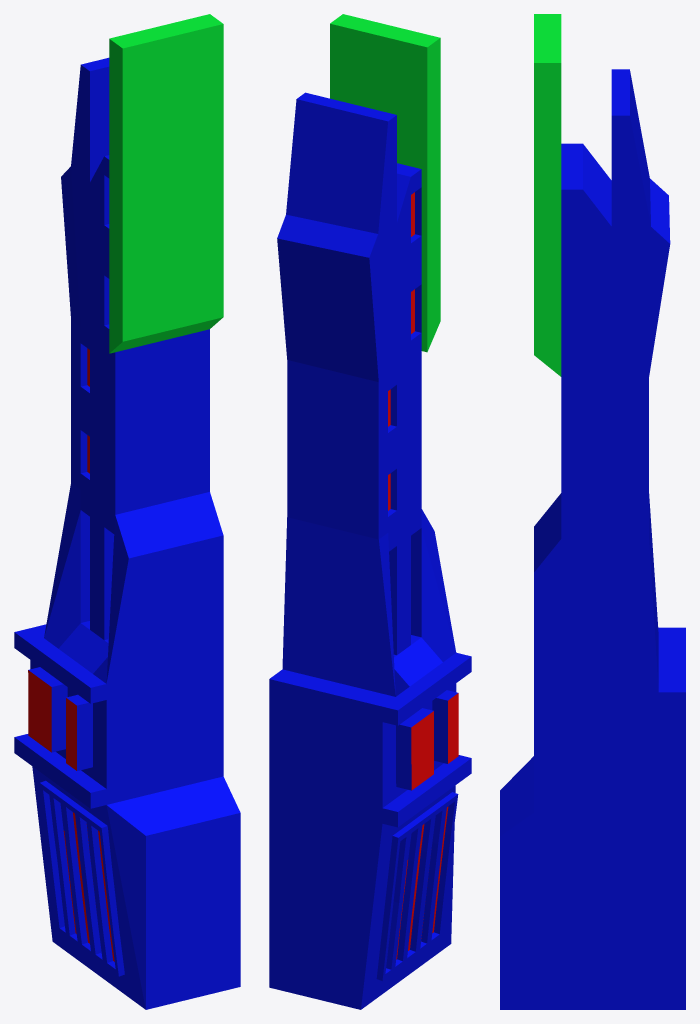
The picture shows the model from 3 angles, left to right: view 1: azimuth 30°, elevation 25°; view 2: azimuth 150°, elevation 25°; view 3: azimuth 270°, elevation 25°; orthographic projection. The views are drawn at different scales.
Visible parts, largest first — view 1: Box003; view 2: Box003; view 3: Box003.
Part boxes in pixels (x1,y1,x2,y2): Box003: (14,14,240,1009); Box003: (269,14,471,1009); Box003: (500,14,685,1009).
Size of the model in its own units: 1209 by 8242 by 1466.
